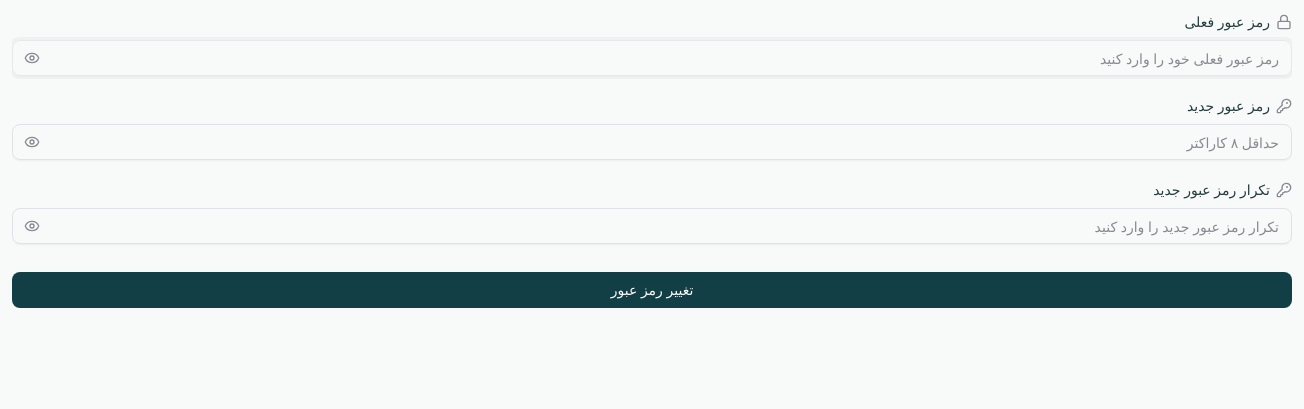
ChangePasswordForm › shows validation error on empty submission
Click the button "تغییر رمز عبور" at (652, 290), box [12,272,1292,308]
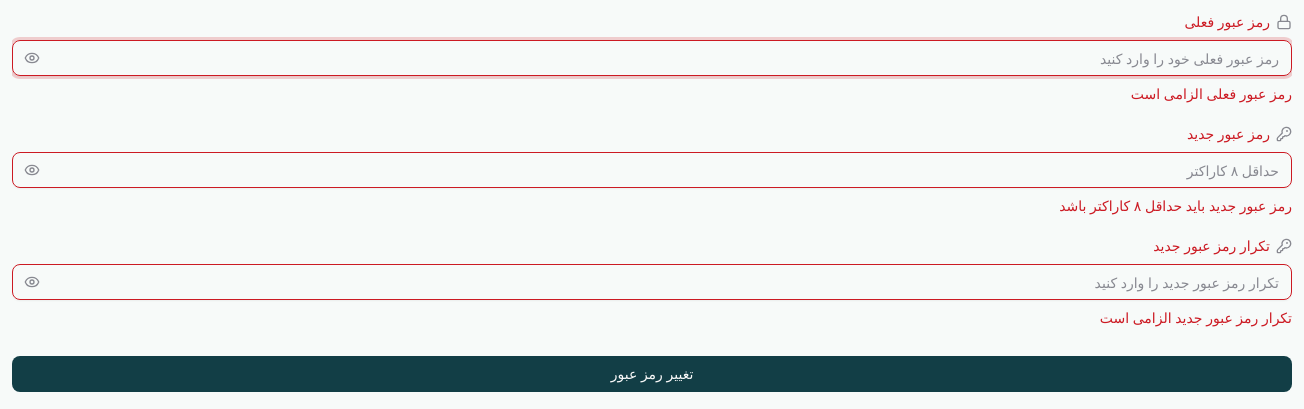
Now the text "رمز عبور فعلی الزامی است" is shown, box [1131,84,1292,103]
